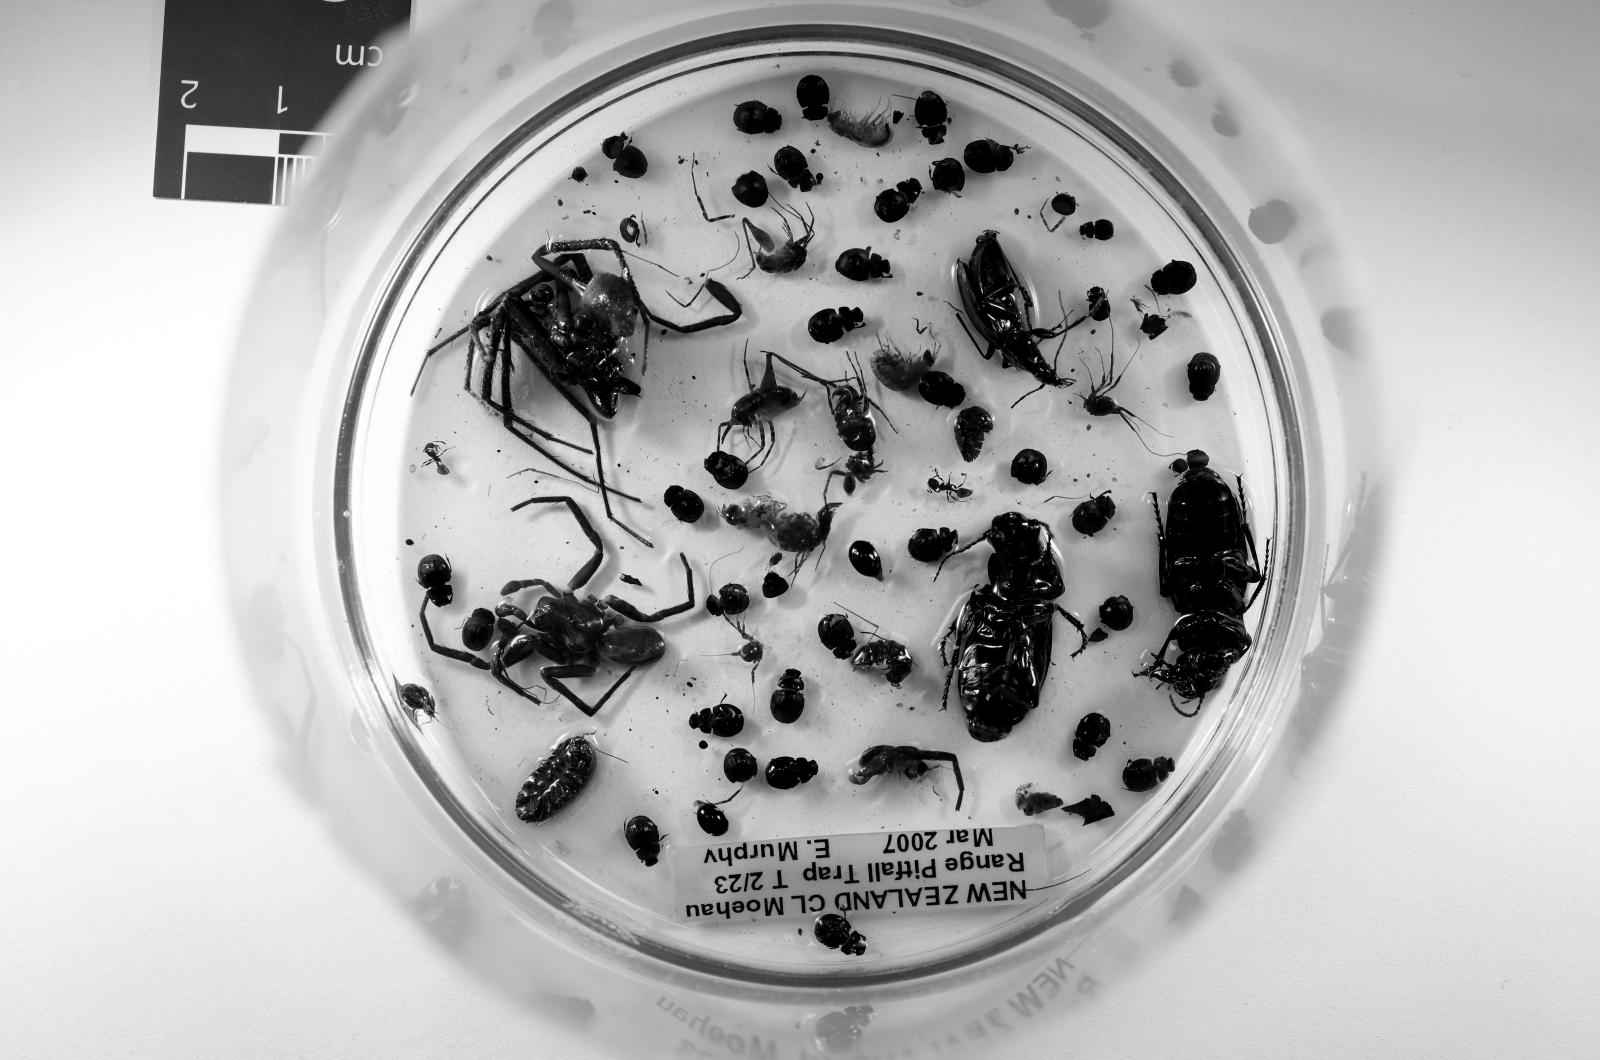acari: (769, 553, 781, 568)
amphipoda: (722, 497, 841, 559), (872, 338, 941, 391), (828, 109, 894, 149)
araneae: (462, 239, 647, 519), (491, 497, 694, 717), (825, 450, 884, 497)
carabidae: (1138, 450, 1266, 711), (938, 512, 1066, 742), (953, 230, 1072, 388)
coleoptera: (772, 146, 822, 193), (769, 668, 806, 724), (875, 180, 922, 224), (603, 134, 647, 180), (809, 307, 862, 345), (834, 248, 891, 283), (703, 450, 750, 491), (916, 90, 950, 146), (688, 702, 744, 736), (1072, 494, 1116, 537), (1072, 711, 1109, 761), (962, 140, 1016, 174), (419, 556, 453, 609), (1122, 758, 1175, 792), (919, 370, 966, 407), (625, 817, 659, 866), (766, 758, 819, 789), (1150, 261, 1197, 295), (909, 528, 956, 562), (819, 615, 856, 658), (797, 75, 831, 121), (662, 484, 703, 522), (462, 609, 497, 652), (734, 102, 781, 134), (1188, 354, 1219, 401), (706, 584, 750, 615), (847, 540, 881, 578), (697, 801, 728, 835), (1088, 286, 1109, 320), (1078, 220, 1112, 239)
formicidae: (928, 469, 972, 503), (425, 441, 450, 475)
isopoda: (516, 736, 594, 823), (850, 640, 912, 686)
opiliones: (1081, 354, 1141, 438), (825, 370, 878, 453), (728, 618, 762, 680)
orthoptera: (719, 348, 803, 460), (744, 208, 816, 273)
